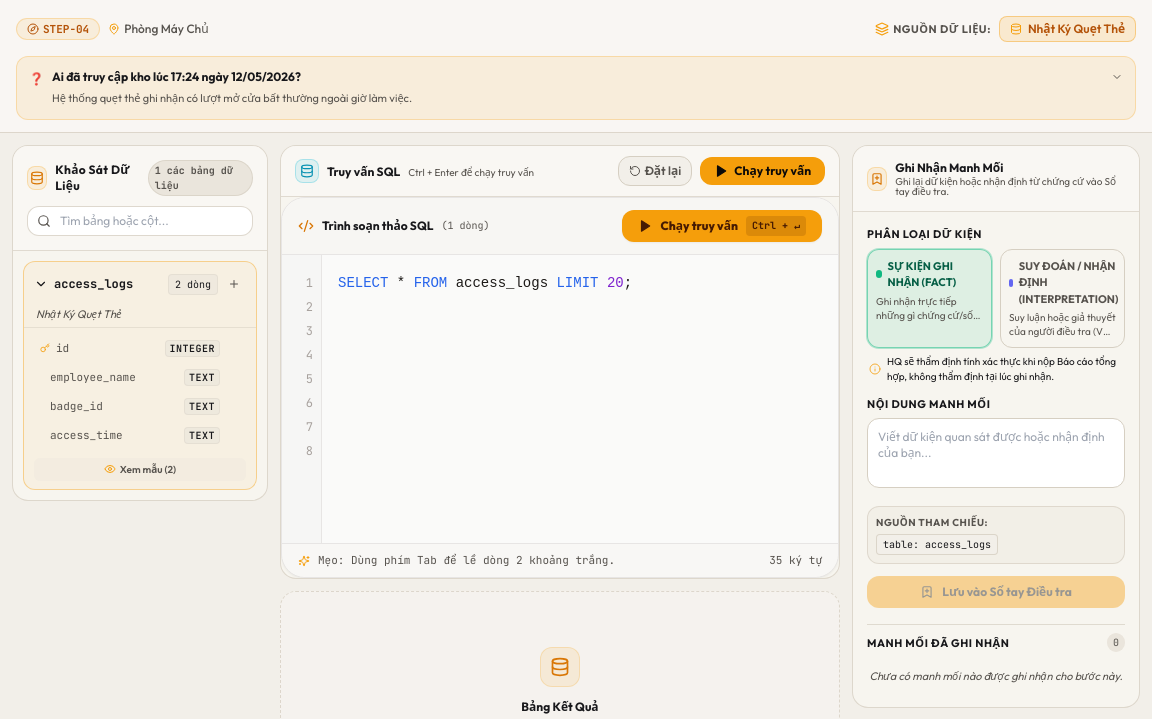
DataProcessingWorkspace Component Tests › 4. executes SQL query and renders tabular results in ResultViewer
Click the button "Chạy truy vấn". click: [763, 171]
box: [700,157,825,185]
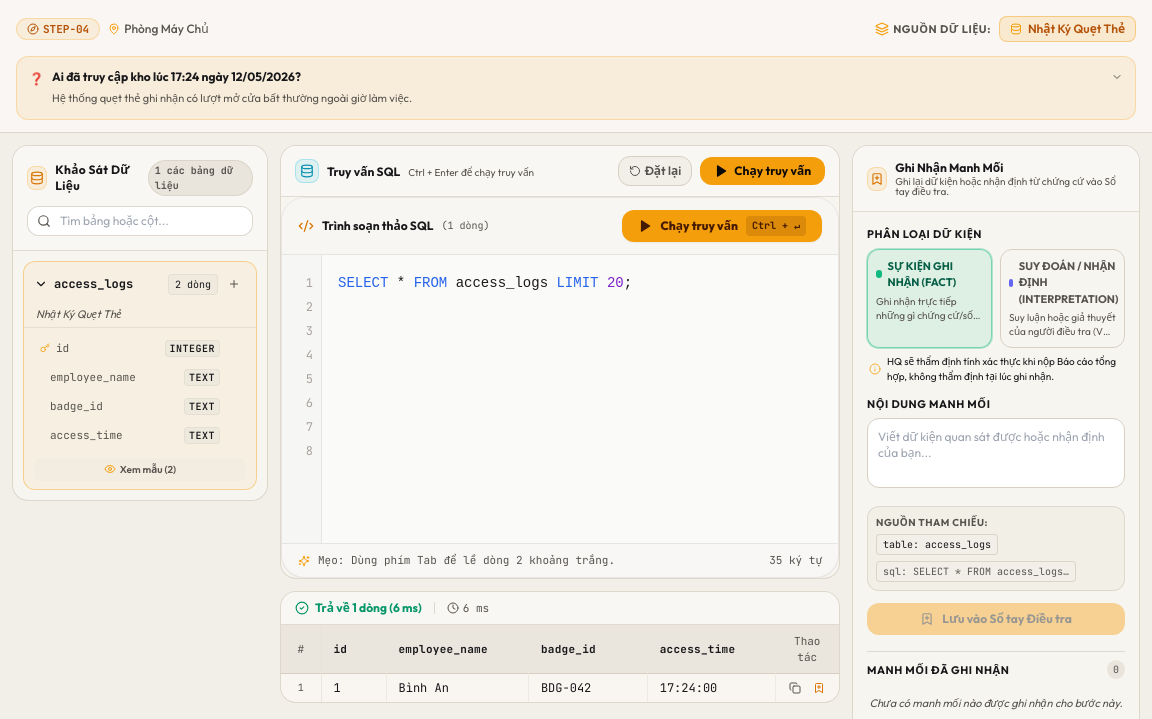
Result: the text "Bình An" is shown at [398,680,449,696]
Result: the text "BDG-042" is shown at [541,680,591,696]
Result: the text "17:24:00" is shown at [660,680,717,696]
